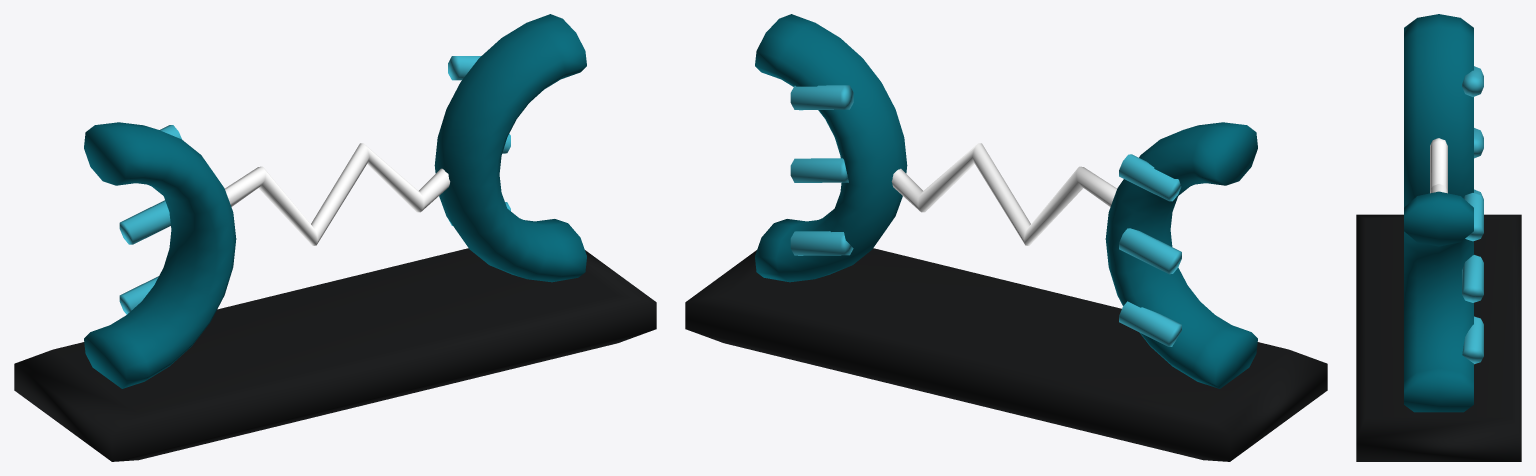
File: ElectricTrap.glb
3 renders of one model, left to right at view 1: azimuth 30°, elevation 25°; view 2: azimuth 150°, elevation 25°; view 3: azimuth 270°, elevation 25°, orthographic. The views are drawn at different scales.
Visible parts, largest first — view 1: Body, Emitters, Arc; view 2: Body, Emitters, Arc; view 3: Emitters, Body, Arc.
Boxes of the visible parts, x1=… form: Body: x1=14, y1=248, x2=656, y2=461; Emitters: x1=84, y1=14, x2=586, y2=388; Arc: x1=225, y1=143, x2=450, y2=245; Body: x1=685, y1=248, x2=1327, y2=461; Emitters: x1=755, y1=14, x2=1257, y2=388; Arc: x1=891, y1=143, x2=1116, y2=245; Emitters: x1=1404, y1=14, x2=1483, y2=412; Body: x1=1356, y1=214, x2=1521, y2=461; Arc: x1=1430, y1=138, x2=1447, y2=193.
Size of the model in its own units: 1.01 by 0.5233 by 0.3136.
1 material, 1 textured.
